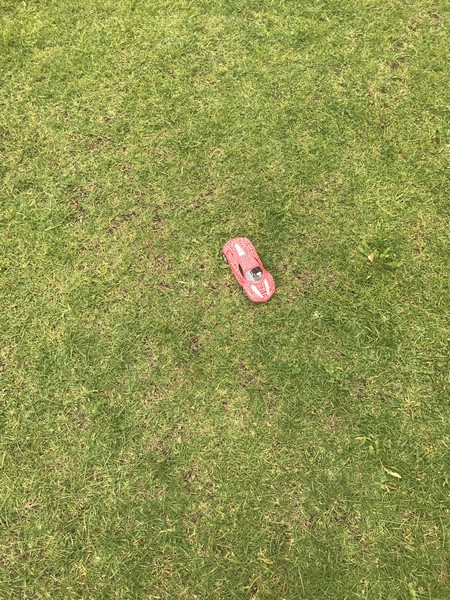RC: (219, 236, 278, 306)
